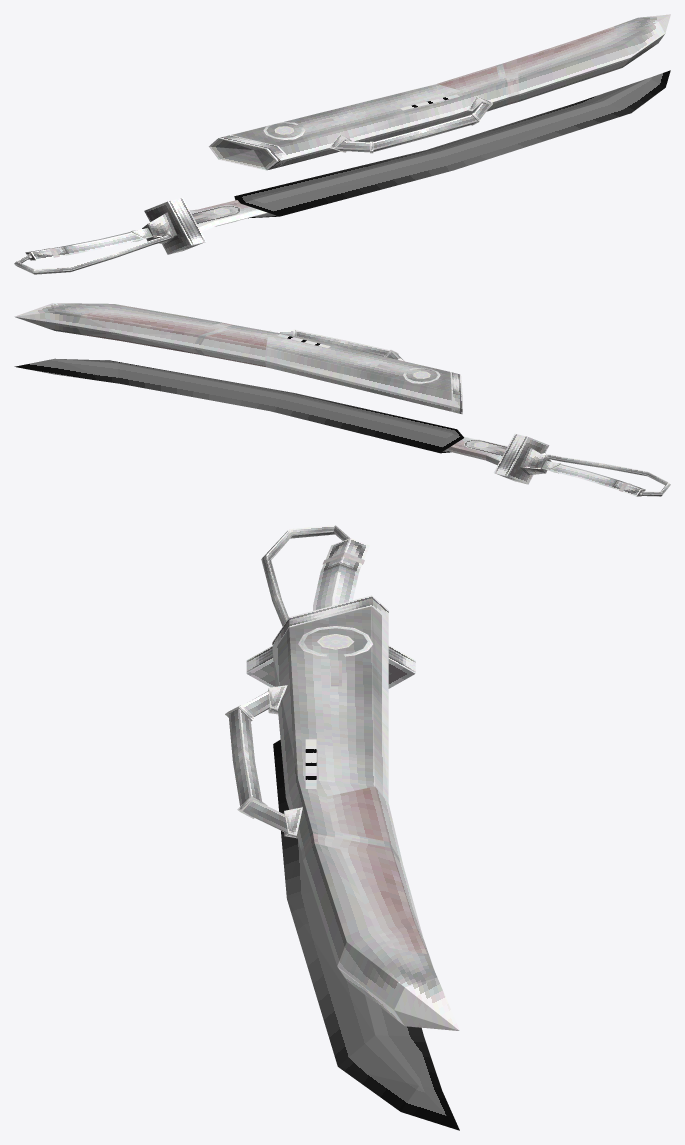
The model's file is arms9068.obj.
3 views of the same model, one above another, from view 1: azimuth 30°, elevation 25°; view 2: azimuth 150°, elevation 25°; view 3: azimuth 270°, elevation 25° (orthographic). The views are drawn at different scales.
Visible parts, largest first — view 1: arms9068; view 2: arms9068; view 3: arms9068.
Boxes of the visible parts, <box> form: arms9068: <box>14,14,670,274</box>; arms9068: <box>14,303,670,496</box>; arms9068: <box>225,525,459,1130</box>.
Bounding box in the file's own units: 2.34 × 0.3057 × 0.3849.
2 materials, 2 textured.
